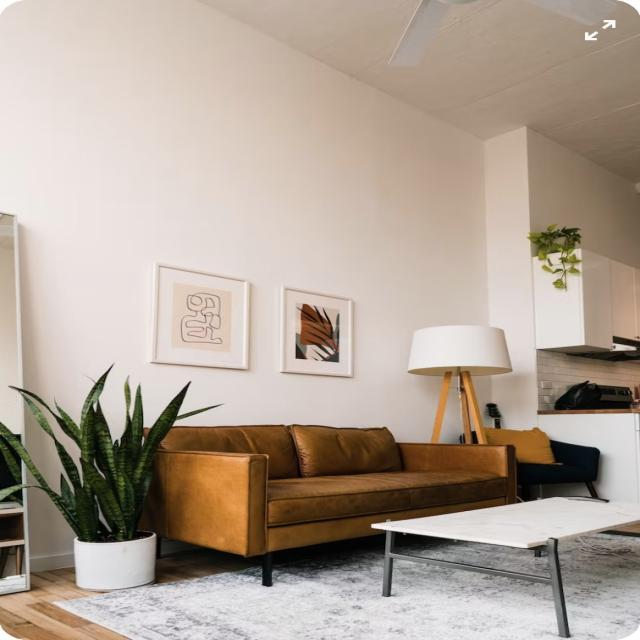lamp: (410, 324, 510, 442)
picture: (152, 261, 259, 371), (275, 279, 364, 384)
potted plant: (21, 376, 192, 594)
sofa: (135, 422, 520, 568)
table: (362, 488, 640, 638)
